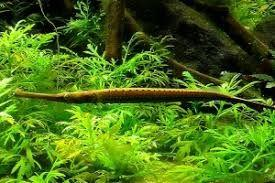Long-Snouted Pipefish: (8, 82, 274, 118)
